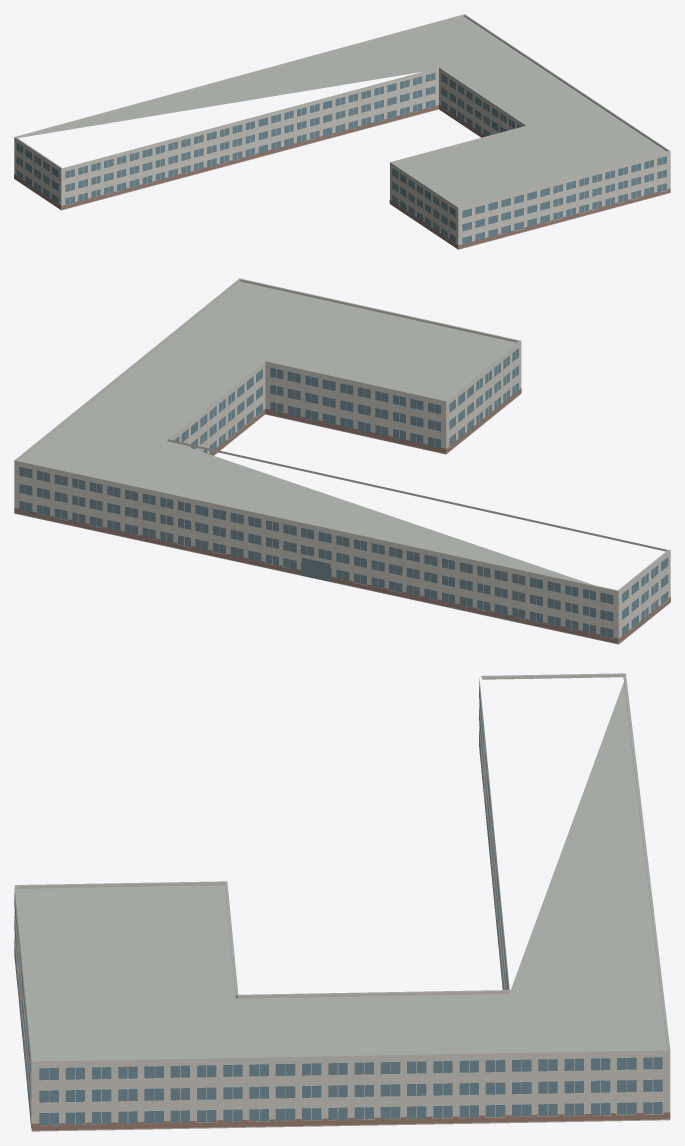
Rendered from public-afb50895-987e-4af0-9fe7-cb9743d30db3.glb.
3 renders of one model, top to bottom at view 1: azimuth 30°, elevation 25°; view 2: azimuth 150°, elevation 25°; view 3: azimuth 270°, elevation 25°, orthographic. The views are drawn at different scales.
Visible parts, largest first — view 1: public-afb50895-987e-4af0-9fe7-cb9743d30db3; view 2: public-afb50895-987e-4af0-9fe7-cb9743d30db3; view 3: public-afb50895-987e-4af0-9fe7-cb9743d30db3.
Boxes of the visible parts, left/top/right/bottom form: public-afb50895-987e-4af0-9fe7-cb9743d30db3: left=14, top=14, right=670, bottom=249; public-afb50895-987e-4af0-9fe7-cb9743d30db3: left=14, top=278, right=670, bottom=644; public-afb50895-987e-4af0-9fe7-cb9743d30db3: left=14, top=673, right=670, bottom=1131.
Size of the model in its own units: 109 by 9.15 by 77.84.
